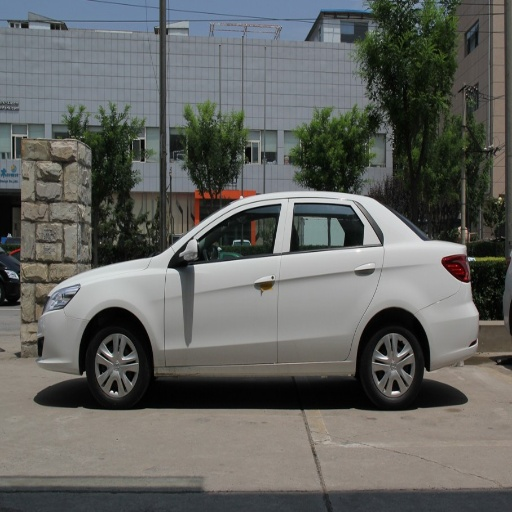back_bumper: (422, 304, 478, 366)
back_left_door: (279, 200, 382, 363)
front_left_door: (164, 201, 288, 364)
